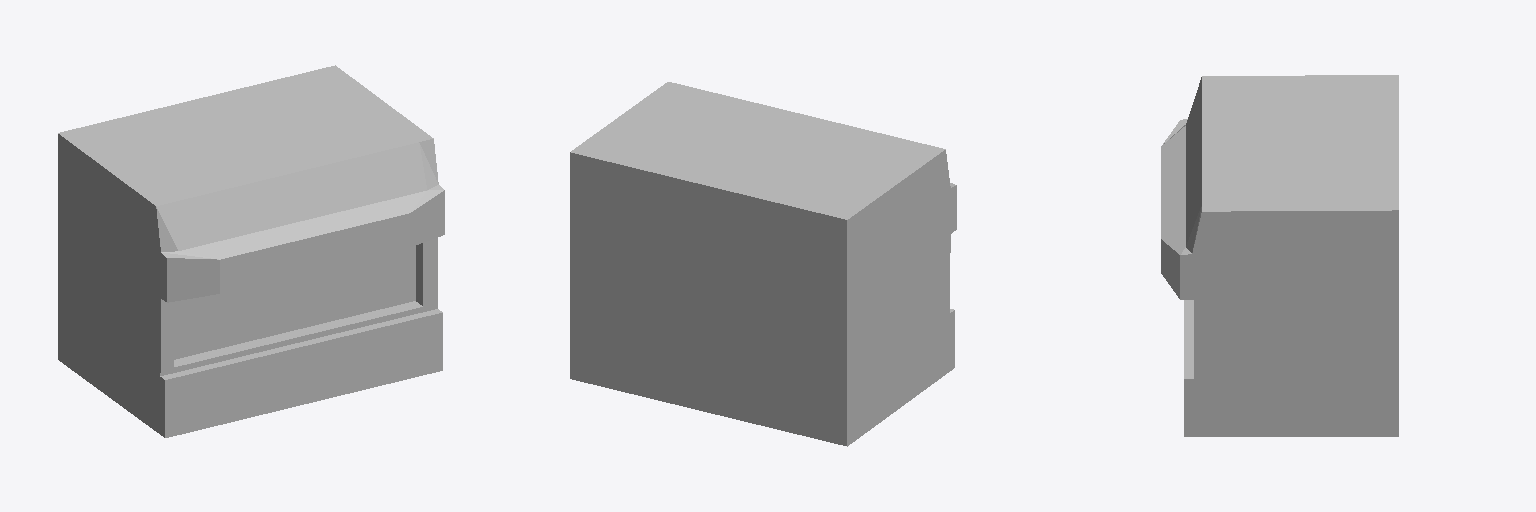
The model's file is stand1.obj.
3 views of the same model, side by side, from view 1: azimuth 30°, elevation 25°; view 2: azimuth 150°, elevation 25°; view 3: azimuth 270°, elevation 25° (orthographic).
Visible parts, largest first — view 1: Cube; view 2: Cube; view 3: Cube.
Part boxes in pixels (left/top/right/bottom): Cube: left=58, top=65, right=444, bottom=437; Cube: left=570, top=82, right=956, bottom=446; Cube: left=1161, top=75, right=1398, bottom=436.
Size of the model in its own units: 4.52 by 3.52 by 3.35.